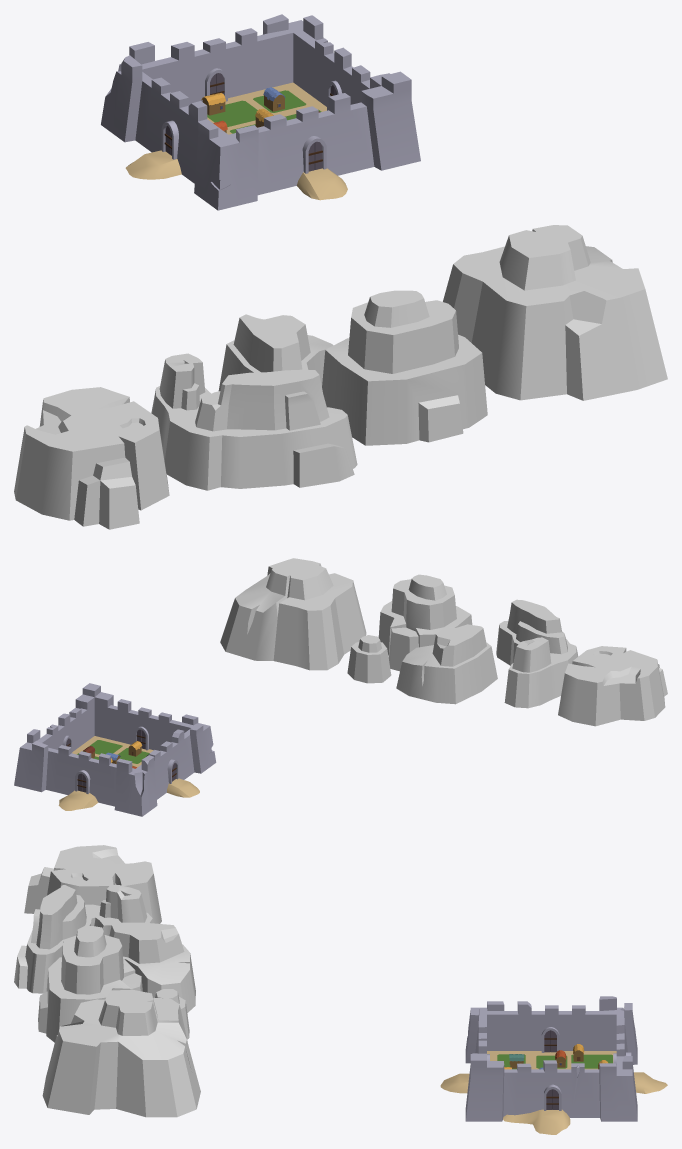
File: Blind Knights Environment.fbx
3 renders of one model, top to bottom at view 1: azimuth 30°, elevation 25°; view 2: azimuth 150°, elevation 25°; view 3: azimuth 270°, elevation 25°, orthographic. The views are drawn at different scales.
Parts seen in each view (by area): view 1: Castle, Hill 1, Hill 5, Hill 2, Hill 6, Hill 3; view 2: Castle, Hill 1, Hill 6, Hill 5, Hill 3, Hill 2, Hill 4; view 3: Castle, Hill 1, Hill 2, Hill 5, Hill 6, Hill 3, Hill 4.
Part boxes in pixels (x1,y1,x2,y2): Castle: (101, 14, 420, 210); Hill 1: (443, 225, 667, 400); Hill 5: (151, 353, 357, 490); Hill 2: (322, 290, 487, 445); Hill 6: (14, 387, 169, 529); Hill 3: (218, 314, 333, 391); Castle: (14, 683, 216, 816); Hill 1: (220, 558, 366, 670); Hill 6: (558, 646, 667, 726); Hill 5: (496, 599, 578, 708); Hill 3: (396, 624, 497, 704); Hill 2: (378, 574, 472, 671); Hill 4: (347, 635, 391, 683); Castle: (440, 996, 667, 1134); Hill 1: (42, 989, 200, 1117); Hill 2: (38, 926, 142, 1042); Hill 5: (14, 885, 153, 993); Hill 6: (24, 845, 161, 923); Hill 3: (109, 922, 195, 1012); Hill 4: (155, 989, 189, 1039).
Size of the model in its own units: 671 by 115 by 761.
